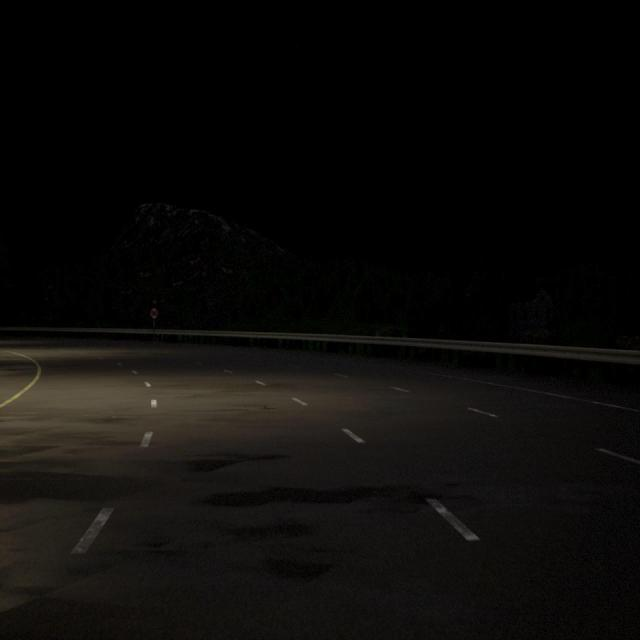Traffic_Signs: (150, 308, 158, 319)
